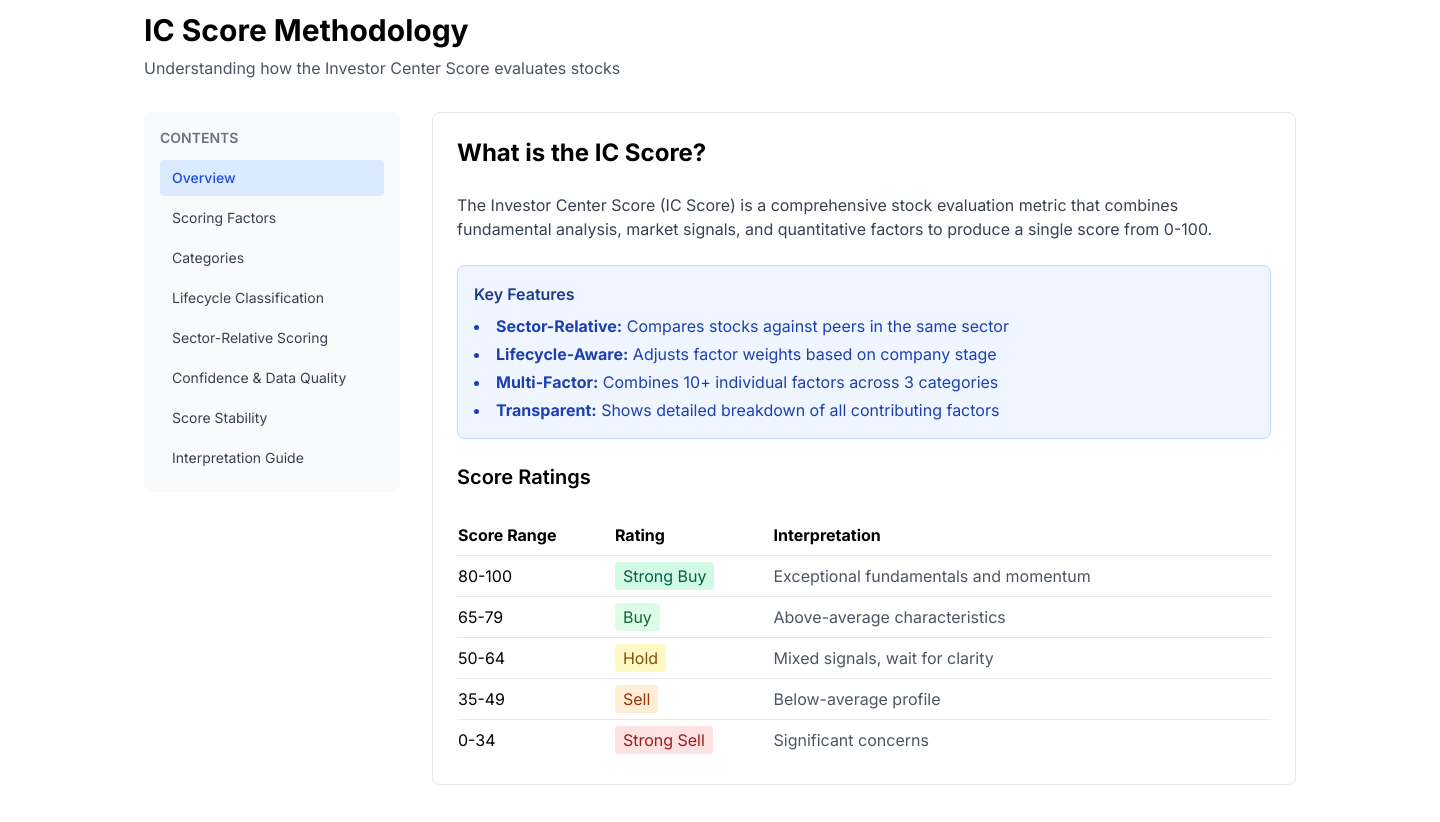
Test case: ICScoreMethodology › switches to Categories section and displays the three categories
The width and height of the screenshot is (1440, 822).
Click the button "Categories": {"x": 272, "y": 258} [160,240,384,276]
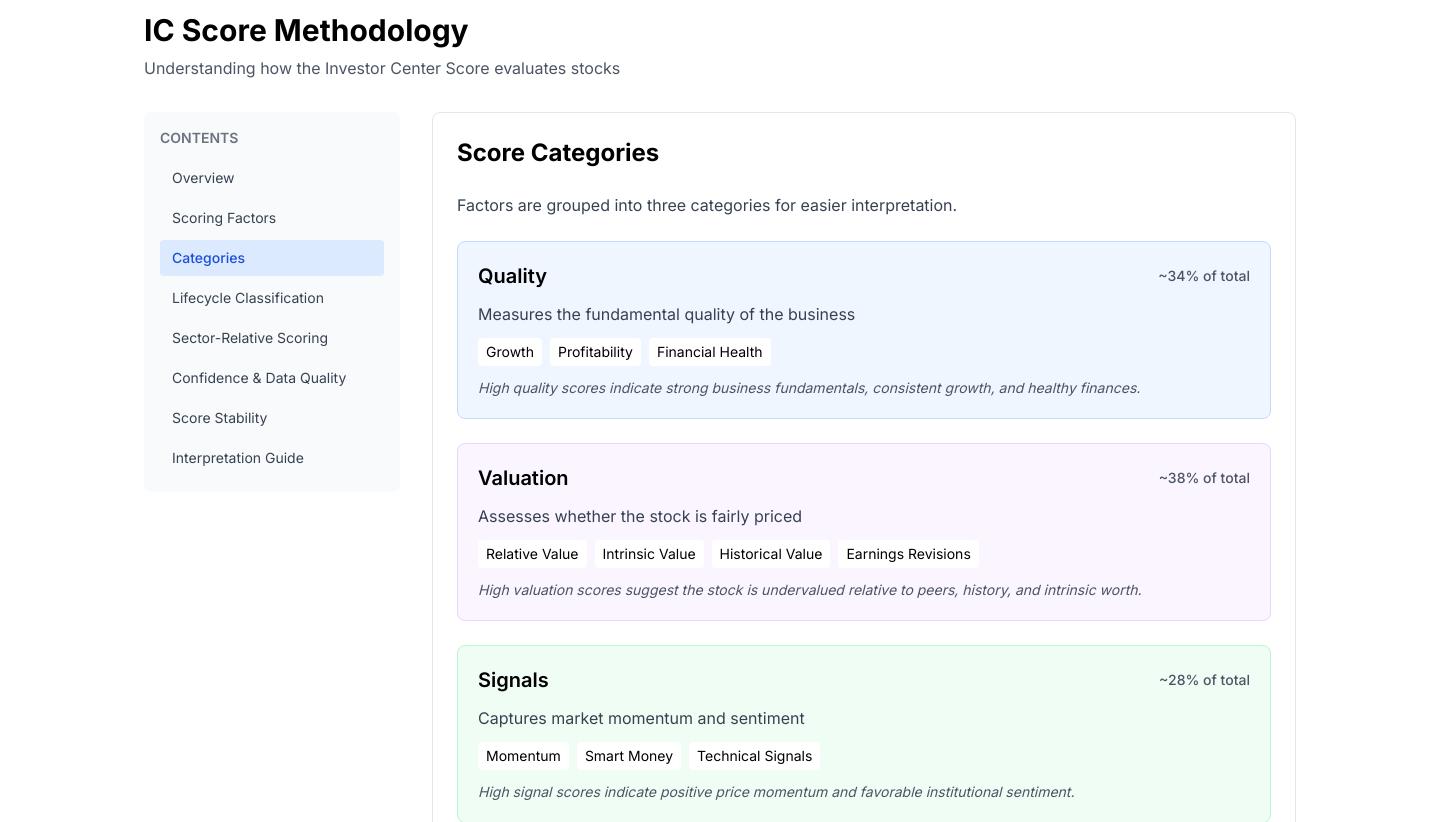
Expected: the heading "Score Categories" is shown, [457,138,659,167]
Expected: the text "~34% of total" is shown, [1158,266,1250,286]
Expected: the text "~38% of total" is shown, [1159,468,1250,488]
